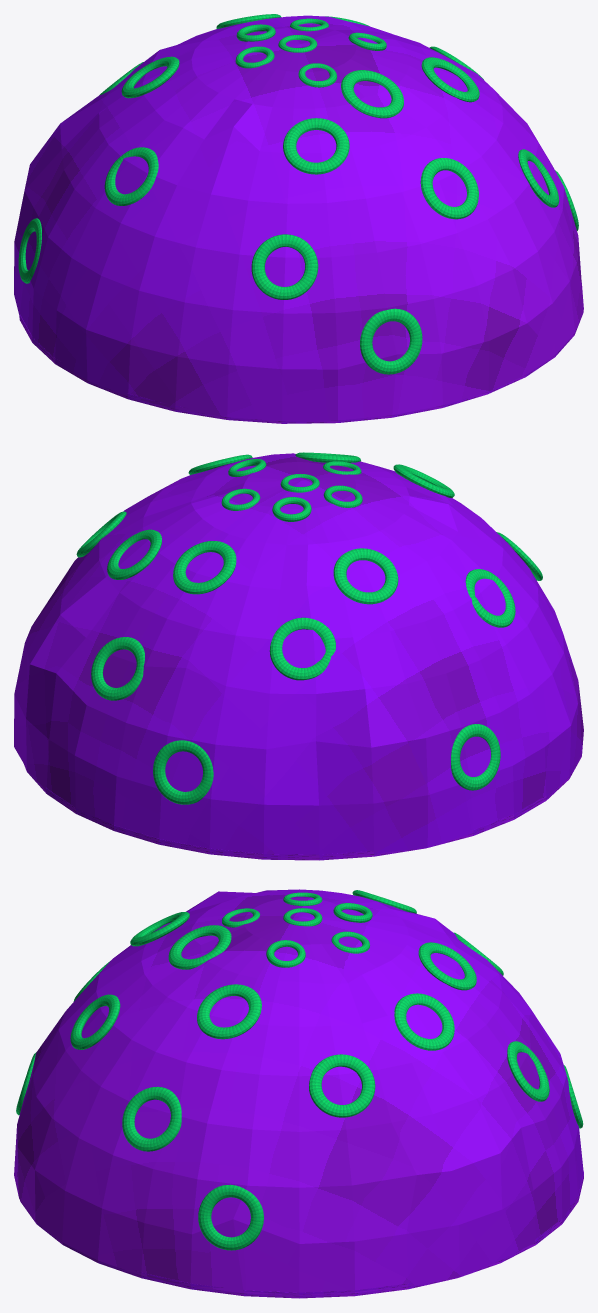
The model's file is oxygen_stone.obj.
3 renders of one model, top to bottom at view 1: azimuth 30°, elevation 25°; view 2: azimuth 150°, elevation 25°; view 3: azimuth 270°, elevation 25°, orthographic.
Visible parts, largest first — view 1: Sphere, Torus.019, Torus.018, Cylinder, Torus.016, Torus.017, Torus.006, Torus.014, Torus.007, Torus.015, Torus.011, Torus.013 (+2 smaller); view 2: Sphere, Cylinder, Torus.022, Torus.021, Torus.015, Torus.023, Torus.020, Torus.013, Torus.008, Torus.014, Torus.016, Torus.002 (+2 smaller); view 3: Sphere, Cylinder, Torus.010, Torus.009, Torus.011, Torus.007, Torus.008, Torus.006, Torus.017, Torus.023, Torus.020, Torus.016 (+2 smaller).
Boxes of the visible parts, x1,y1,x2,y2 form: Sphere: (14,15,583,421); Torus.019: (251,234,318,299); Torus.018: (360,308,422,374); Cylinder: (19,283,583,423); Torus.016: (283,118,349,174); Torus.017: (420,158,478,219); Torus.006: (341,70,403,118); Torus.014: (104,147,158,205); Torus.007: (421,57,479,102); Torus.015: (121,56,179,98); Torus.011: (518,149,559,207); Torus.013: (18,218,41,283); Sphere: (14,453,583,854); Cylinder: (24,735,583,860); Torus.022: (269,617,335,680); Torus.021: (153,740,213,804); Torus.015: (333,548,398,604); Torus.023: (173,541,236,594); Torus.020: (91,637,144,700); Torus.013: (451,724,500,790); Torus.008: (107,529,162,579); Torus.014: (465,569,515,627); Torus.016: (393,464,454,497); Torus.002: (272,497,311,521); Sphere: (14,889,583,1295); Cylinder: (20,1172,583,1298); Torus.010: (198,1184,263,1250); Torus.009: (309,1054,375,1117); Torus.011: (122,1086,181,1151); Torus.007: (197,984,261,1039); Torus.008: (394,993,454,1050); Torus.006: (168,925,231,969); Torus.017: (70,994,120,1049); Torus.023: (418,942,476,990); Torus.020: (507,1041,549,1101); Torus.016: (130,912,189,946).
Size of the model in its own units: 0.9001 by 0.458 by 0.9014.
